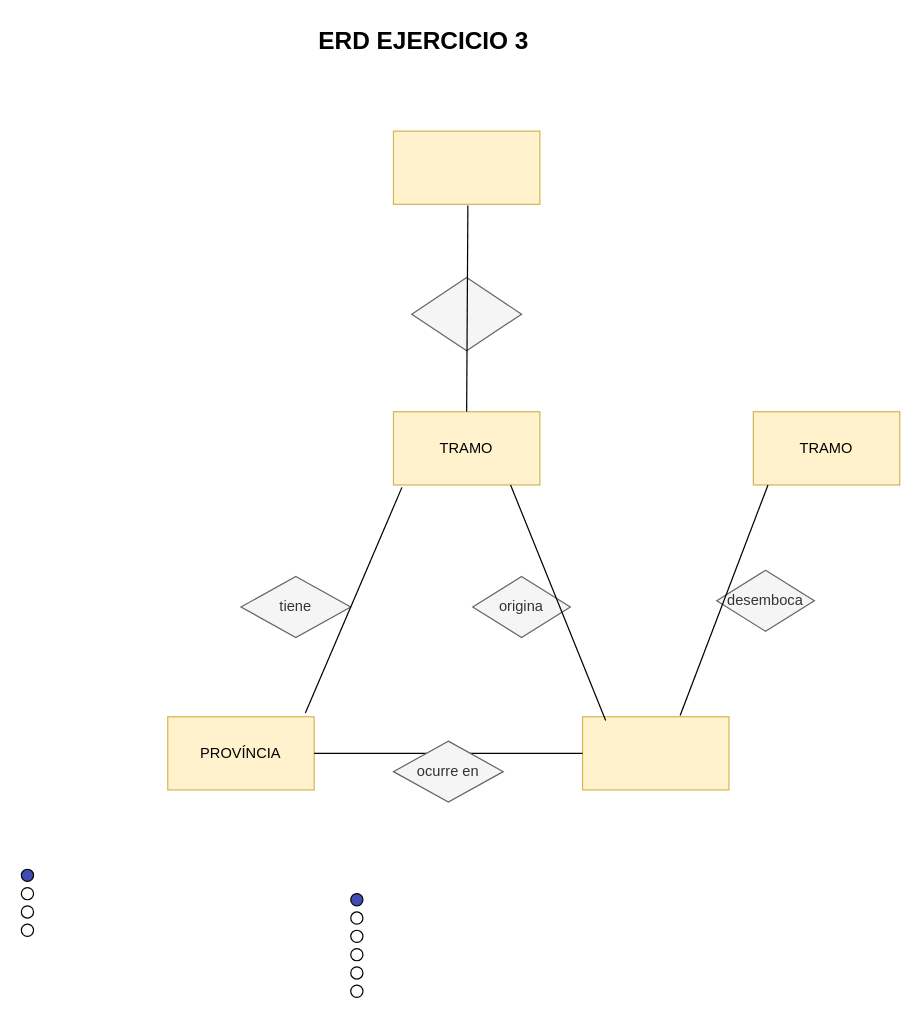
This 921x1019 diagram has some shape labels left out. The centre of each missing label's shape, as x and y in pixels:
"CARRETERA" belongs at pixel 466 167.
"CONFLUENCIA" belongs at pixel 655 753.
"divididas en" belongs at pixel 466 313.
